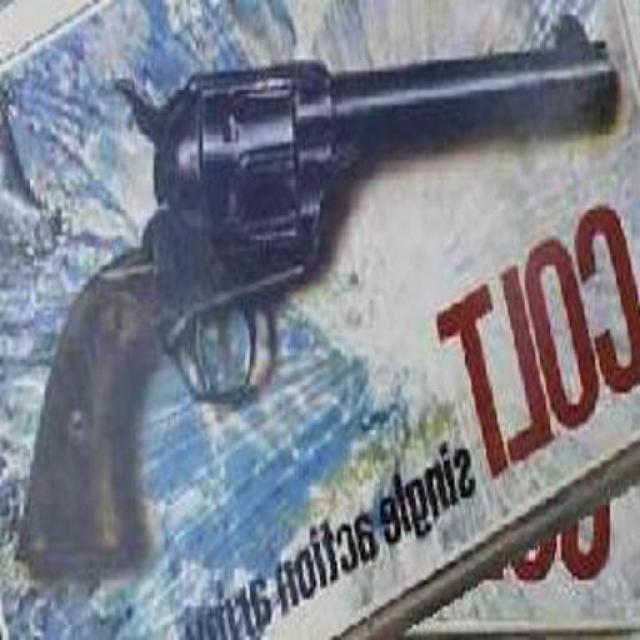pistol: (16, 10, 617, 584)
